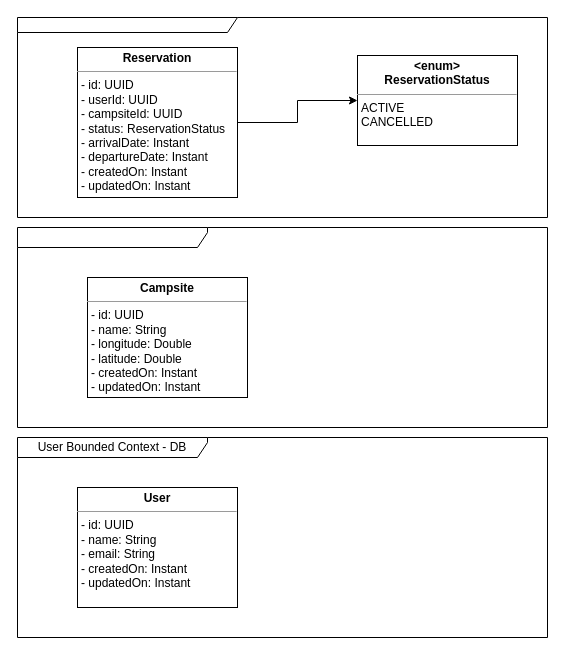
The diagram is 565 pixels wide and 655 high, and some of its shapes have lost their labels. The shapes that lost their labels are listed below. From the top down, each one's box as (x1, y1, x2, y2) in pixels, then its label:
(16, 16, 548, 218): Reservation Bounded Context - DB
(16, 226, 548, 428): Campsite Bounded Context - DB
